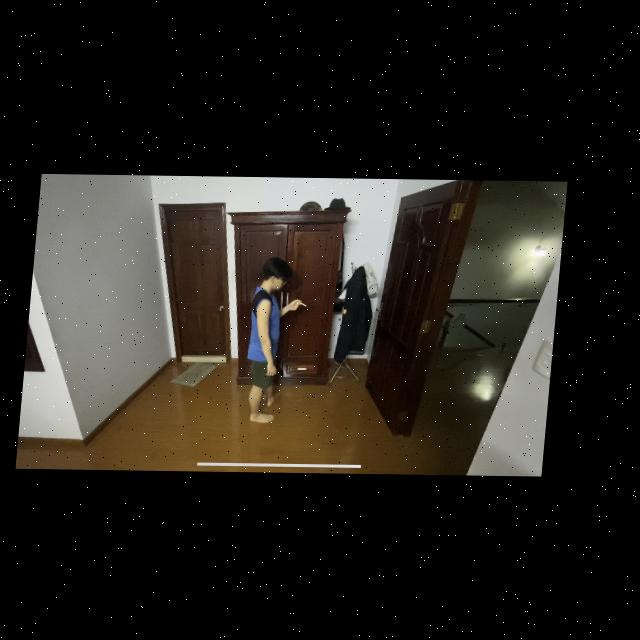cigarette: (303, 300, 313, 305)
